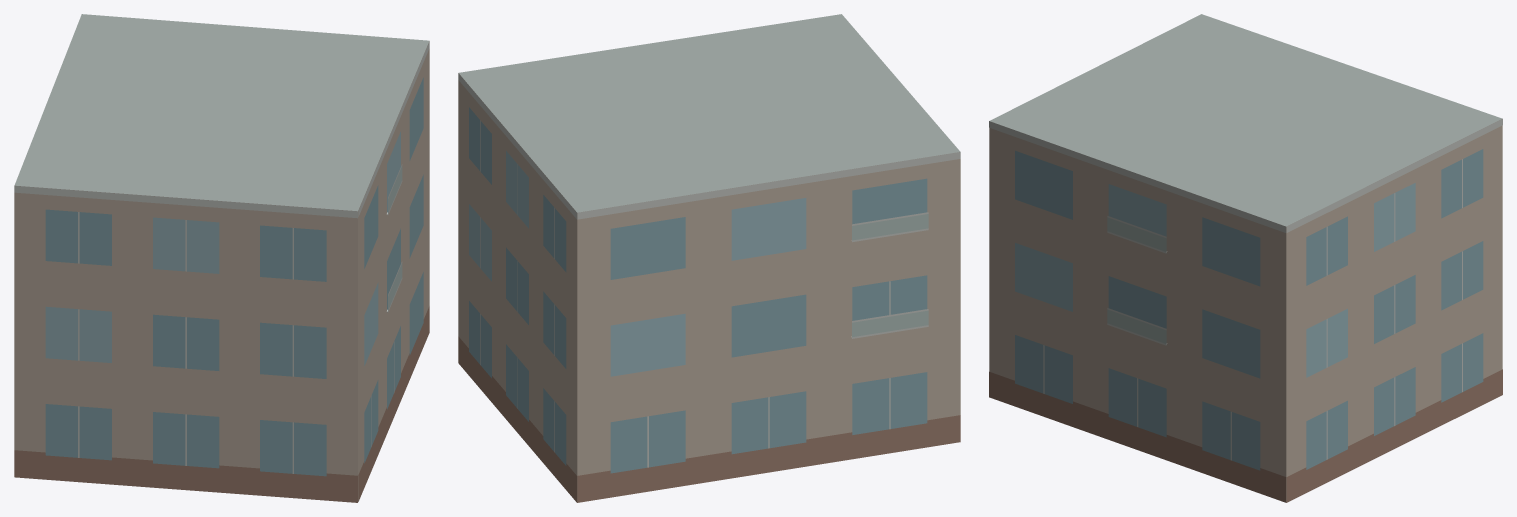
The model's file is survey-upis-32708713.glb.
3 views of the same model, side by side, from view 1: azimuth 30°, elevation 25°; view 2: azimuth 150°, elevation 25°; view 3: azimuth 270°, elevation 25° (orthographic). The views are drawn at different scales.
Parts seen in each view (by area): view 1: survey-upis-32708713.tmp; view 2: survey-upis-32708713.tmp; view 3: survey-upis-32708713.tmp.
Part boxes in pixels (bbox=[...]): survey-upis-32708713.tmp: bbox=[14, 14, 429, 502]; survey-upis-32708713.tmp: bbox=[458, 14, 960, 502]; survey-upis-32708713.tmp: bbox=[989, 14, 1502, 502].
Size of the model in its own units: 16.76 by 10.15 by 17.11.
